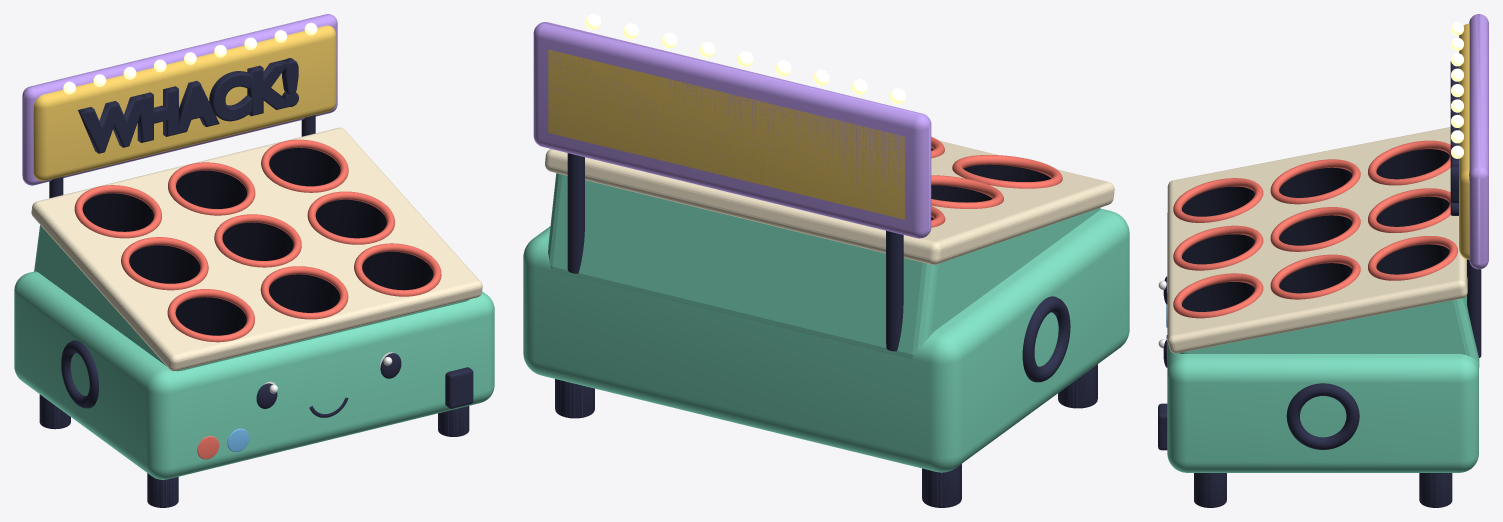
File: cabinet.glb
3 renders of one model, left to right at view 1: azimuth 30°, elevation 25°; view 2: azimuth 150°, elevation 25°; view 3: azimuth 270°, elevation 25°, orthographic. The views are drawn at different scales.
Parts seen in each view (by area): view 1: Cabinet, Playfield, Sign, SignText, SignTrim, Wedge, Cup.004, Cup, Cup.002, Cup.008, Cup.001, Cup.006 (+17 smaller); view 2: Cabinet, Wedge, Sign, SignTrim, Playfield, Handle, Post.001, Post, Rim.001, Leg.001, Leg.003, Rim.002 (+3 smaller); view 3: Cabinet, Playfield, Wedge, SignTrim, Handle.001, Sign, Rim.008, Rim.002, Rim.001, Rim.004, Rim.005, Rim.007 (+17 smaller).
Boxes of the visible parts, x1=… form: Cabinet: x1=14, y1=271, x2=494, y2=479; Playfield: x1=31, y1=127, x2=482, y2=371; Sign: x1=33, y1=25, x2=336, y2=181; SignText: x1=78, y1=58, x2=298, y2=153; SignTrim: x1=22, y1=14, x2=337, y2=185; Wedge: x1=34, y1=225, x2=469, y2=371; Cup.004: x1=222, y1=222, x2=293, y2=260; Cup: x1=175, y1=297, x2=246, y2=335; Cup.002: x1=82, y1=193, x2=153, y2=231; Cup.008: x1=269, y1=147, x2=340, y2=186; Cup.001: x1=129, y1=245, x2=200, y2=283; Cup.006: x1=362, y1=251, x2=433, y2=290; Cabinet: x1=523, y1=208, x2=1129, y2=472; Wedge: x1=548, y1=173, x2=1100, y2=358; Sign: x1=548, y1=49, x2=904, y2=219; SignTrim: x1=533, y1=22, x2=931, y2=238; Playfield: x1=545, y1=140, x2=1114, y2=264; Handle: x1=1022, y1=296, x2=1070, y2=382; Post.001: x1=567, y1=153, x2=584, y2=273; Post: x1=886, y1=231, x2=903, y2=351; Rim.001: x1=952, y1=155, x2=1062, y2=188; Leg.001: x1=922, y1=464, x2=961, y2=507; Leg.003: x1=555, y1=379, x2=594, y2=418; Rim.002: x1=931, y1=175, x2=1003, y2=208; Cabinet: x1=1167, y1=213, x2=1478, y2=472; Playfield: x1=1167, y1=127, x2=1467, y2=353; Wedge: x1=1179, y1=295, x2=1479, y2=367; SignTrim: x1=1469, y1=14, x2=1488, y2=269; Handle.001: x1=1286, y1=383, x2=1359, y2=449; Sign: x1=1459, y1=23, x2=1469, y2=259; Rim.008: x1=1270, y1=254, x2=1360, y2=299; Rim.002: x1=1270, y1=159, x2=1360, y2=204; Rim.001: x1=1173, y1=178, x2=1263, y2=222; Rim.004: x1=1173, y1=225, x2=1263, y2=270; Rim.005: x1=1270, y1=207, x2=1360, y2=251; Rim.007: x1=1173, y1=273, x2=1263, y2=318.
Bounding box in the file's own units: 1.3 × 1.14 × 0.998.
